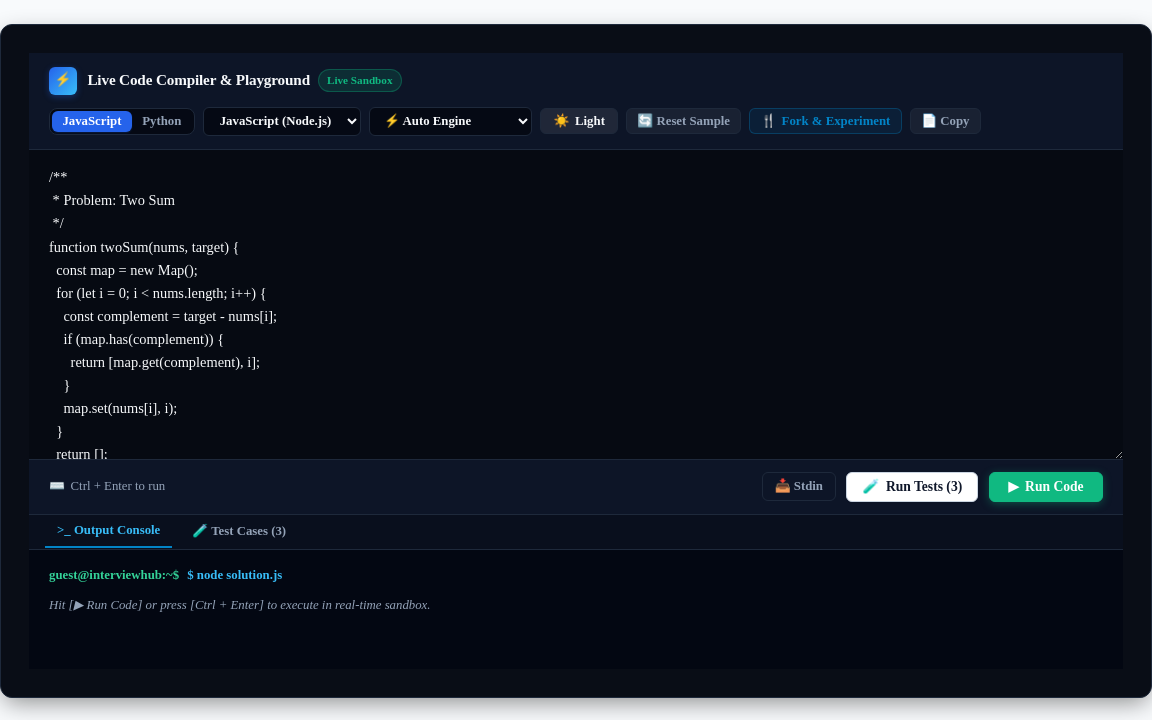
Scenario: CodeCompilerPlayground Component › runs JavaScript code on button click and shows output console
This screenshot has width=1152, height=720.
Step 1. Click the button "▶ Run Code" → (1046, 487), box [989,472,1103,502]
(page scrolled)
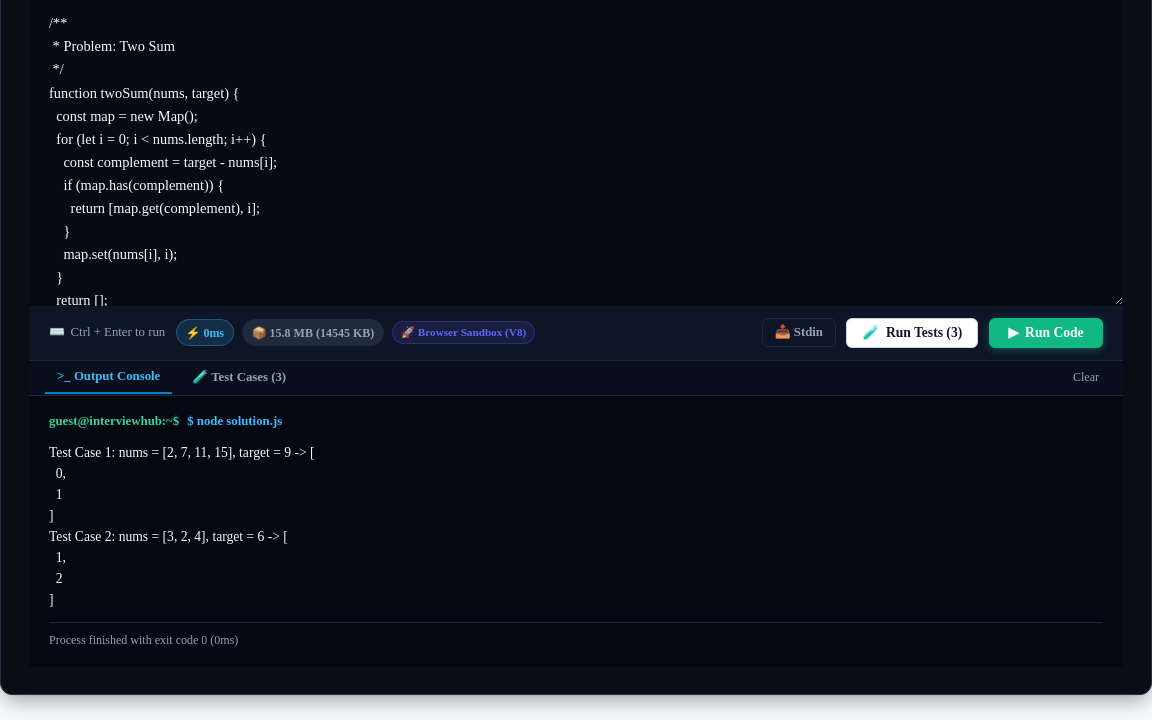
Expected: the text ">_ Output Console" is shown, [57,368,160,382]
Expected: the text with id "compiler-output-text" shows "Test Case 1", [49,443,315,606]
